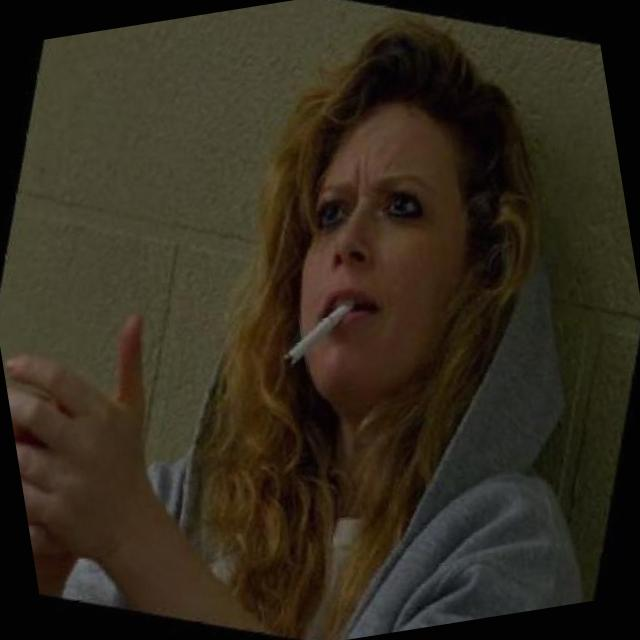cigarette: (270, 284, 366, 392)
